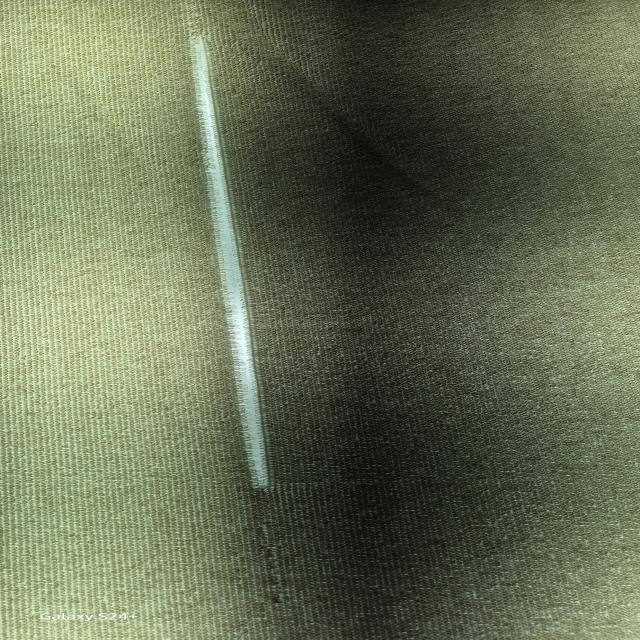Warp_Weft: (187, 40, 275, 489)
